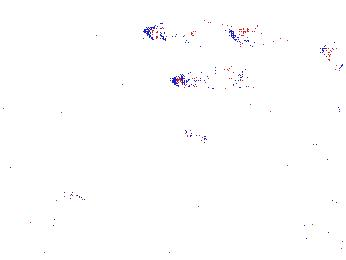X-ray fish: (89, 76, 140, 118)
glassfish: (178, 122, 277, 177)
redtail glassfish: (143, 16, 255, 48), (169, 67, 256, 89)
